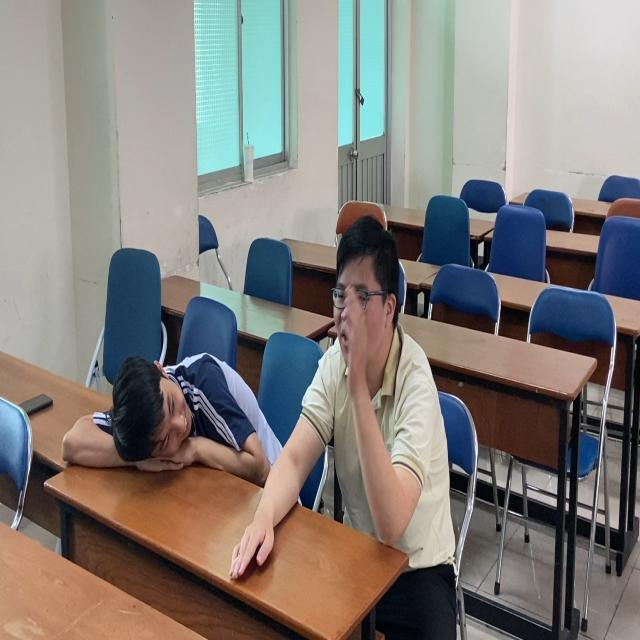raise_hand: (320, 212, 444, 563)
sleep: (59, 333, 273, 491)
